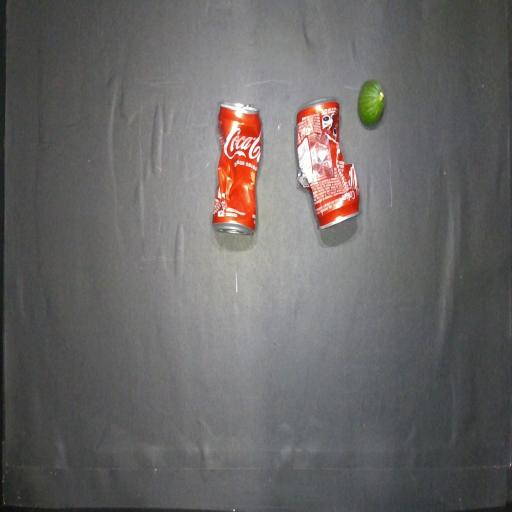higo: (358, 80, 385, 126)
lata_defectuoso: (295, 99, 359, 228), (212, 103, 262, 234)
